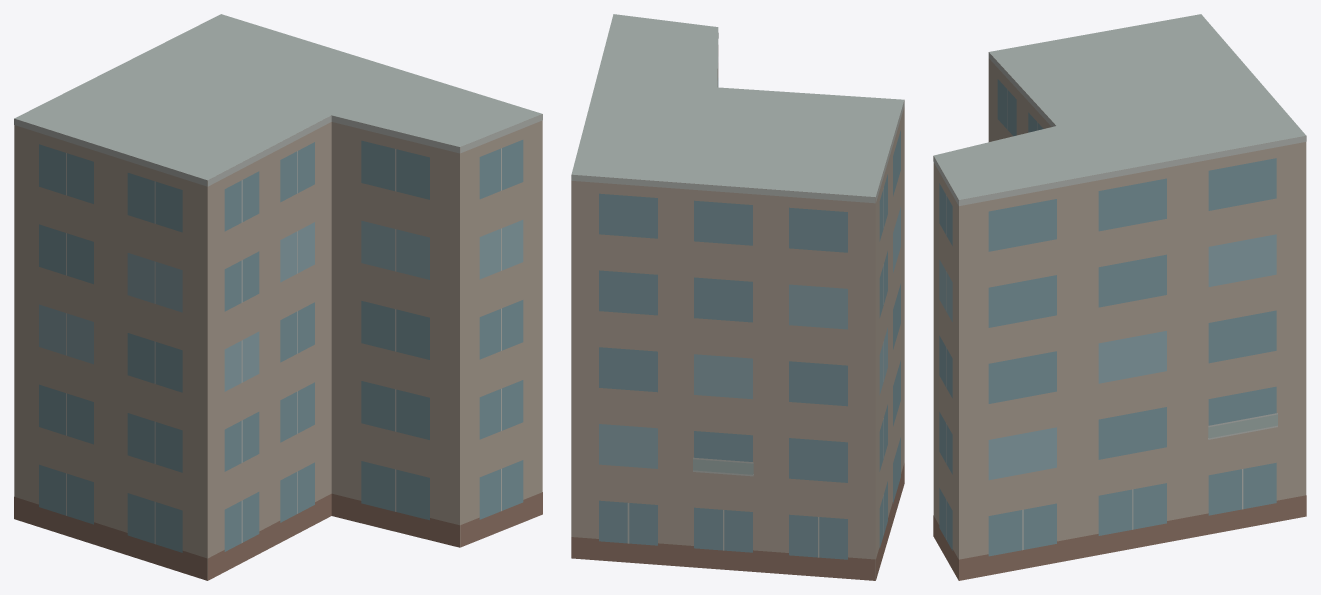
Rendered from residential-1cedb7cc-d9f8-48ea-93c1-00127b607bbd.glb.
3 views of the same model, side by side, from view 1: azimuth 30°, elevation 25°; view 2: azimuth 150°, elevation 25°; view 3: azimuth 270°, elevation 25° (orthographic). The views are drawn at different scales.
Visible parts, largest first — view 1: residential-1cedb7cc-d9f8-48ea-93c1-00127b607bbd.tmp; view 2: residential-1cedb7cc-d9f8-48ea-93c1-00127b607bbd.tmp; view 3: residential-1cedb7cc-d9f8-48ea-93c1-00127b607bbd.tmp.
Boxes of the visible parts, x1,y1,x2,y2 form: residential-1cedb7cc-d9f8-48ea-93c1-00127b607bbd.tmp: (14,14,542,580); residential-1cedb7cc-d9f8-48ea-93c1-00127b607bbd.tmp: (571,14,904,580); residential-1cedb7cc-d9f8-48ea-93c1-00127b607bbd.tmp: (933,14,1306,580).
Size of the model in its own units: 16 by 15.25 by 13.55.
